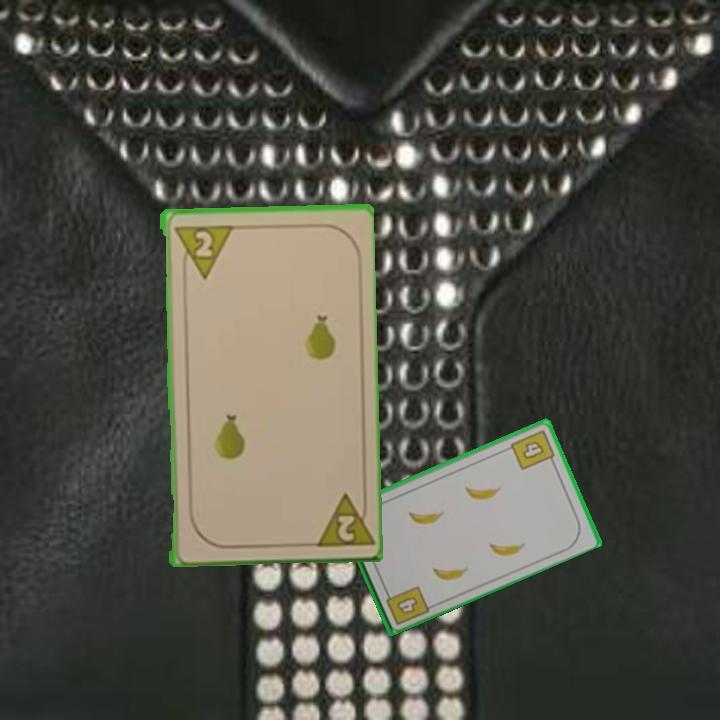2p: (308, 487, 373, 550), (170, 221, 233, 281)
4b: (507, 426, 558, 473), (381, 582, 432, 628)
